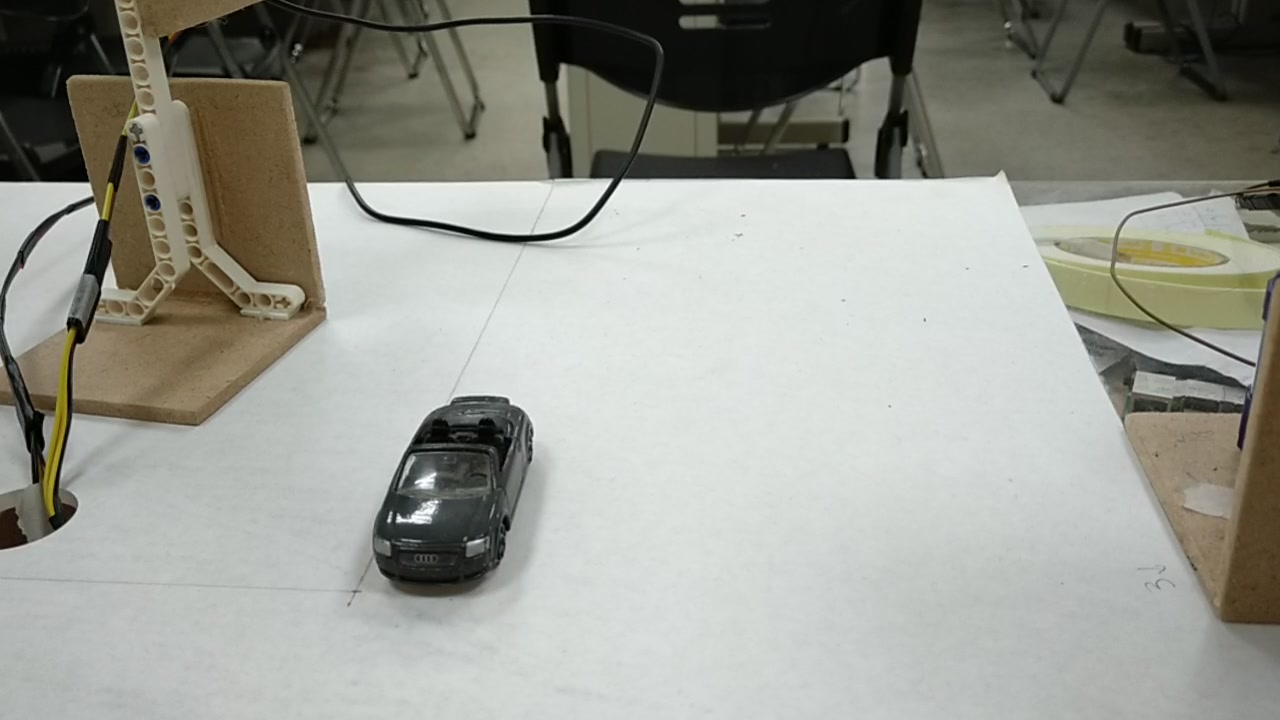car: (368, 388, 538, 609)
